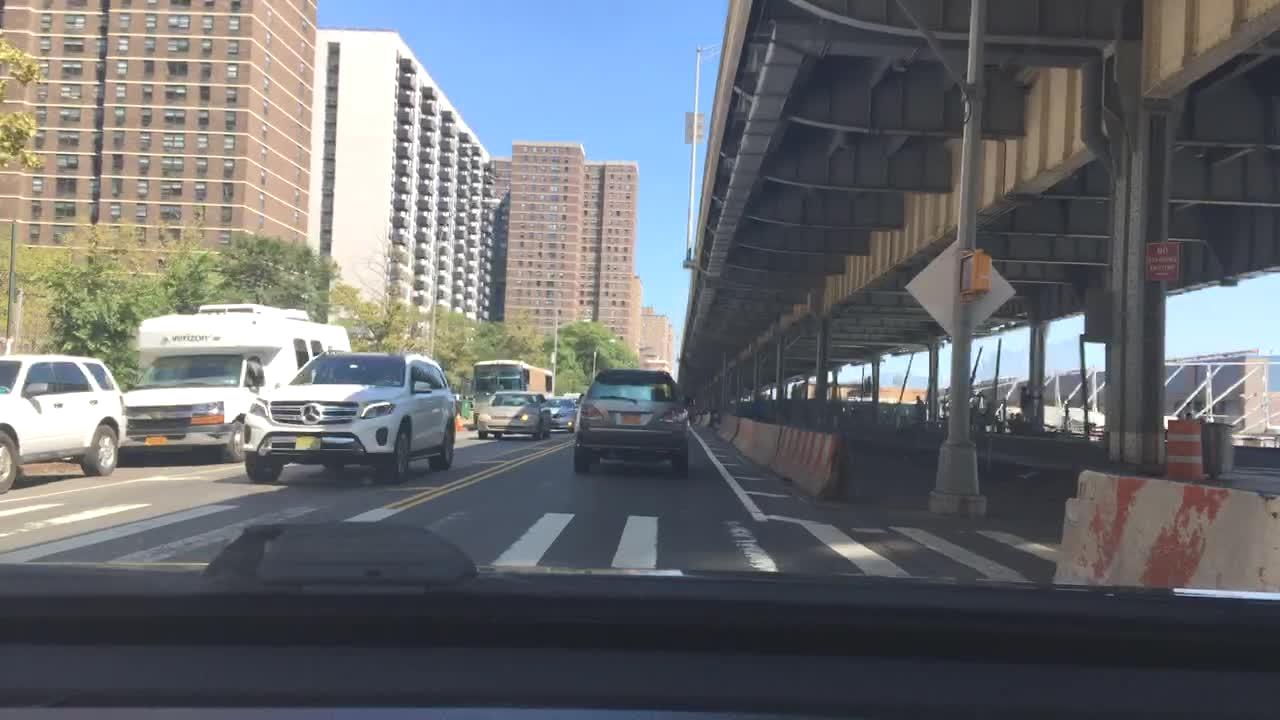Mercedes: (299, 401, 322, 425)
